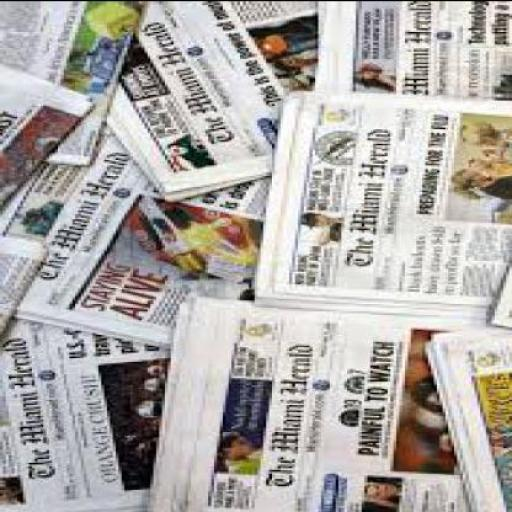paper: (142, 299, 481, 511), (248, 92, 510, 312), (14, 136, 269, 350), (86, 2, 316, 202), (0, 315, 170, 511), (0, 1, 139, 166), (312, 2, 509, 100), (422, 327, 511, 511), (0, 63, 90, 215), (0, 236, 47, 350), (485, 264, 509, 328)
